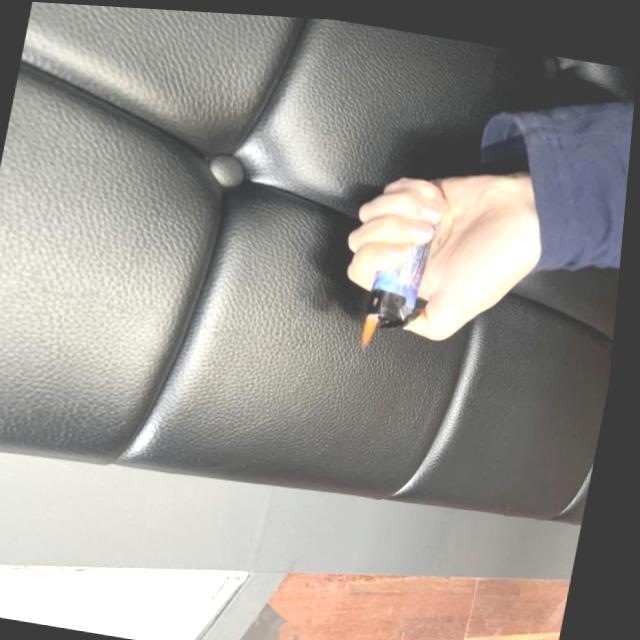helmet: (362, 305, 387, 346)
